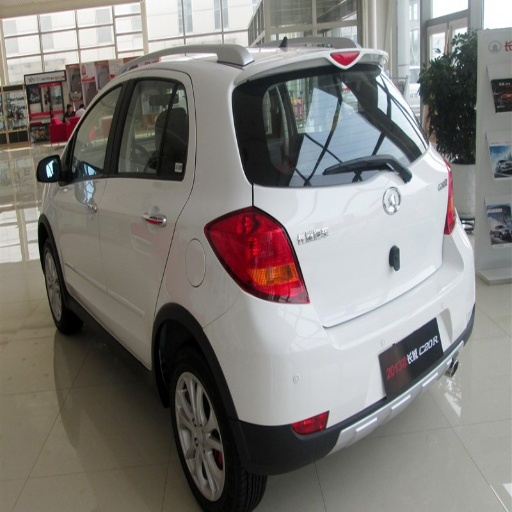back_bumper: (199, 235, 474, 470)
back_glass: (234, 72, 421, 184)
back_left_door: (99, 74, 193, 341)
tailgate: (284, 225, 368, 324)
trunk: (270, 175, 444, 328)
